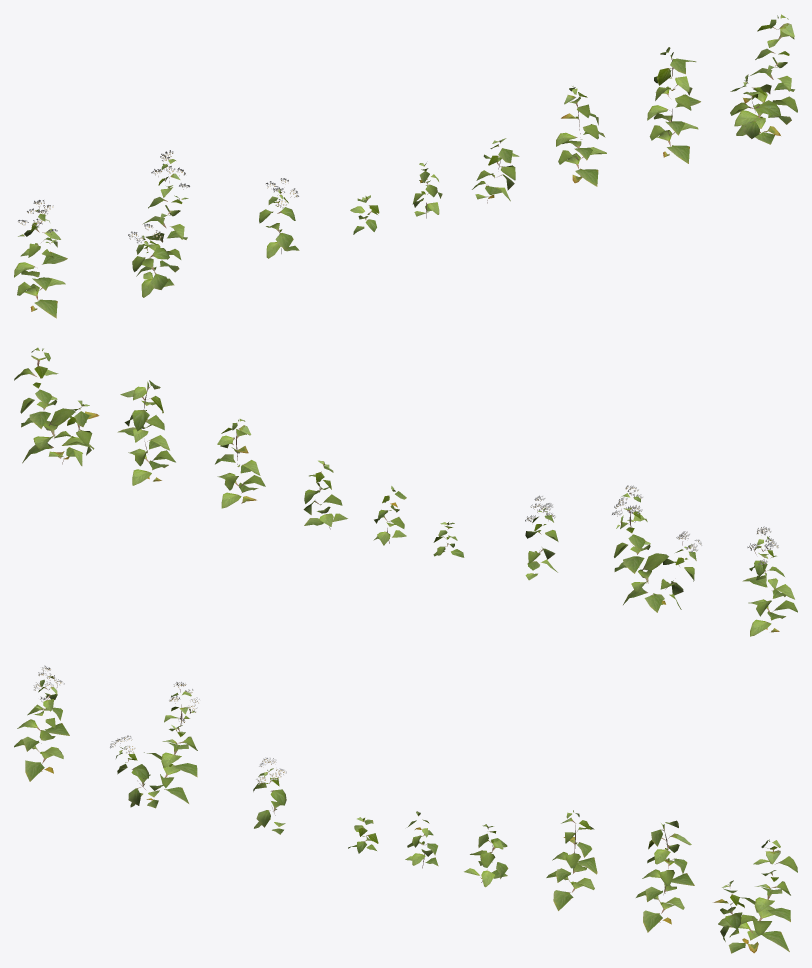
File: shrub_01_lod0.gltf
3 renders of one model, top to bottom at view 1: azimuth 30°, elevation 25°; view 2: azimuth 150°, elevation 25°; view 3: azimuth 330°, elevation 25°, orthographic. The views are drawn at different scales.
Parts seen in each view (by area): view 1: shrub_01_lod0; view 2: shrub_01_lod0; view 3: shrub_01_lod0.
Part boxes in pixels (box(x1,y1,x2,y2)): shrub_01_lod0: box(14, 14, 797, 318); shrub_01_lod0: box(14, 347, 797, 636); shrub_01_lod0: box(14, 665, 797, 953).
Size of the model in its own units: 2.59 by 0.4006 by 0.2222.
Materials: 1 (1 with a texture image).
